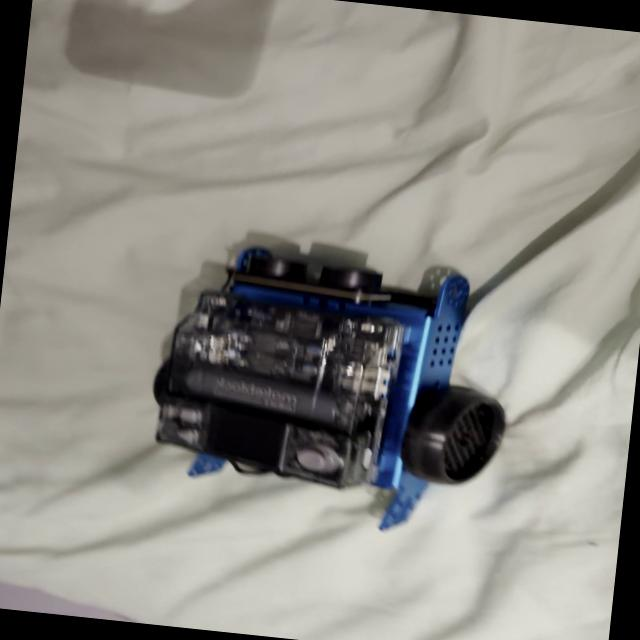mbot-detection: (131, 220, 542, 554)
